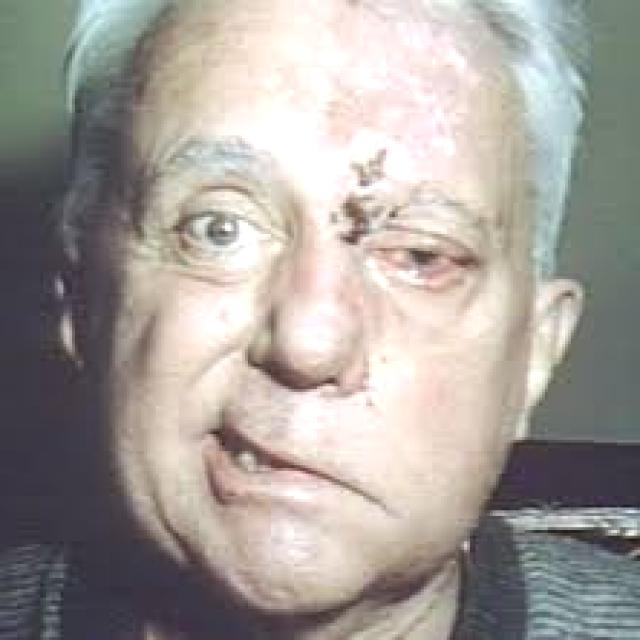stroke_face: (88, 20, 547, 589)
